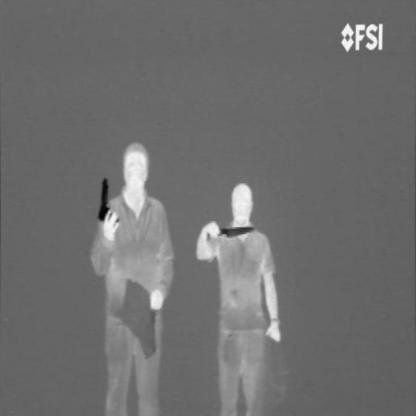weapon: (96, 173, 120, 230)
